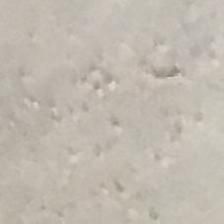Non_Crack: (13, 15, 224, 198)
